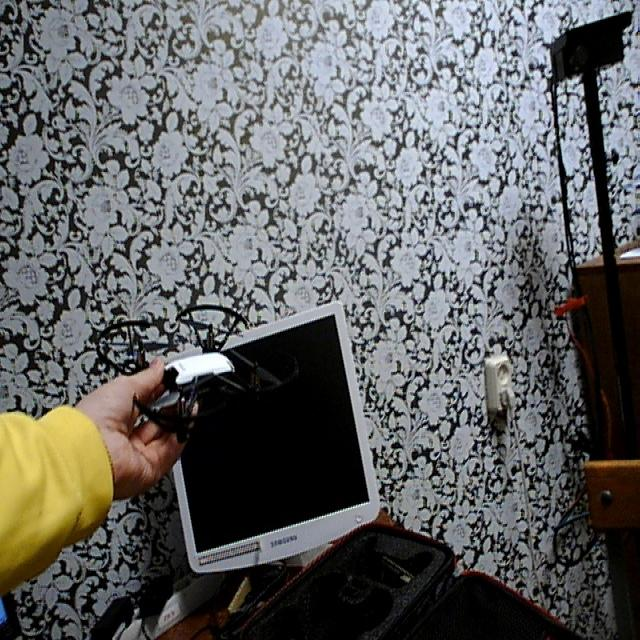drone: (96, 308, 288, 433)
